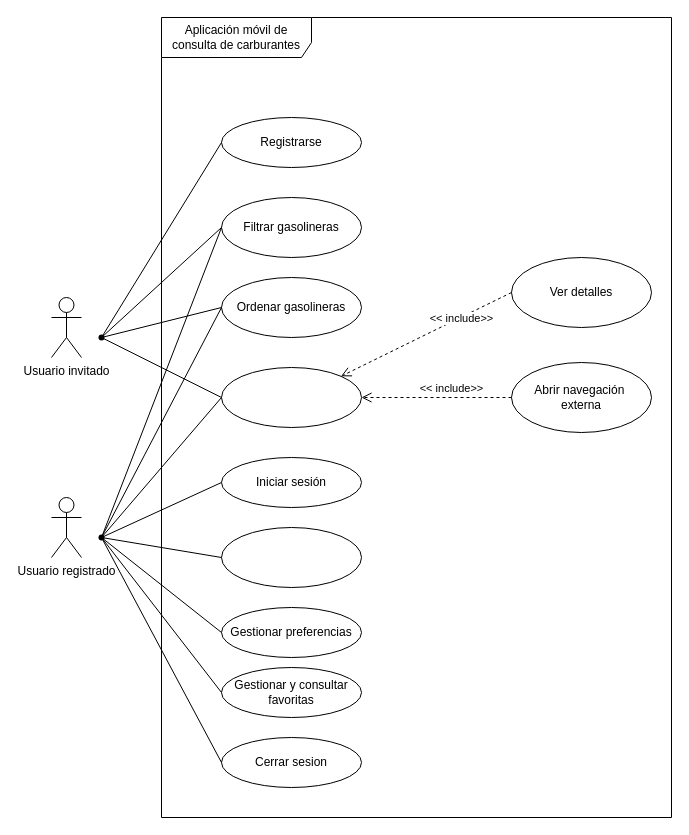
Image size: 689x835. Some labels were removed from this diagram. The centre of each missing label's shape, as x and y in pixels:
"Consultar y modificar perfil" belongs at pixel 291 557.
"Visualizar gasolineras" belongs at pixel 291 397.
